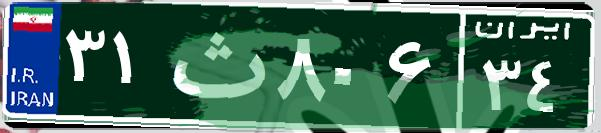0: (330, 28, 385, 110)
1: (110, 28, 158, 105)
3: (57, 26, 110, 107), (475, 38, 525, 113)
4: (525, 38, 570, 115)
6: (385, 28, 445, 110)
8: (273, 28, 330, 110)
ث: (158, 15, 273, 115)
